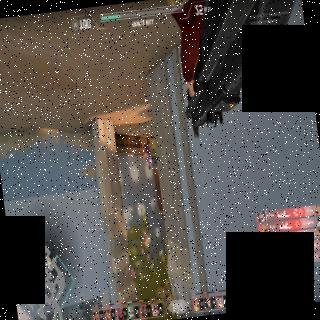ENEMY-BODY: (143, 134, 153, 171)
ENEMY-HEAD: (148, 163, 151, 170)
